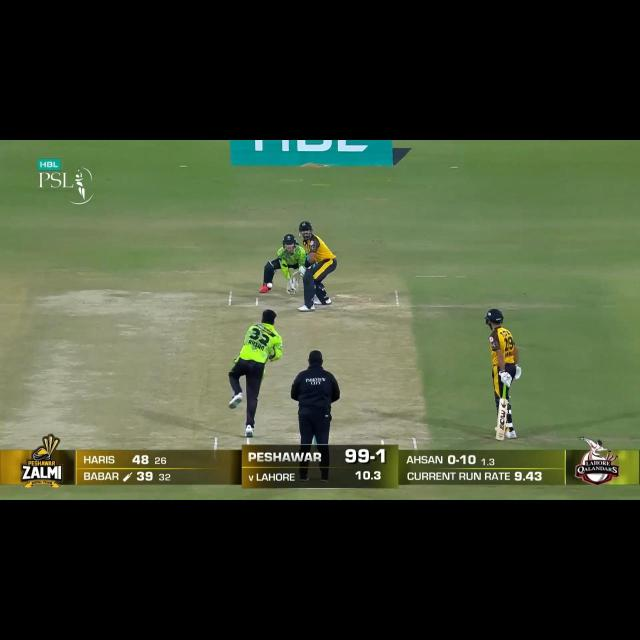bat: (496, 399, 508, 438), (292, 270, 303, 282)
toe: (493, 429, 506, 441), (292, 273, 301, 280)
